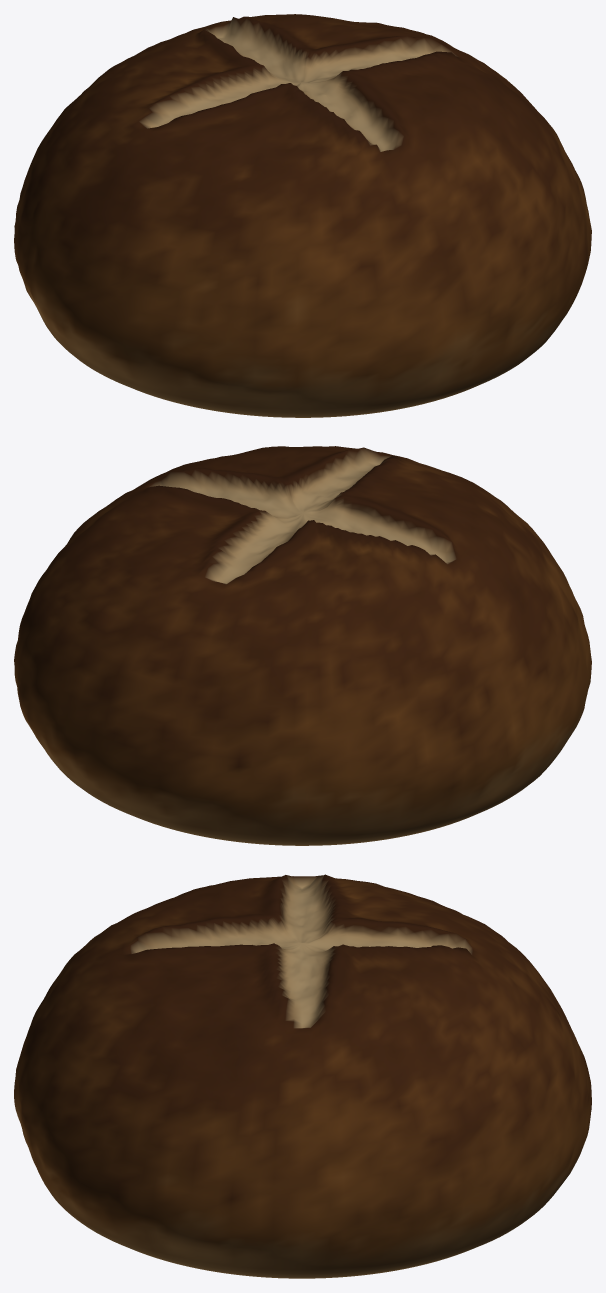
Rendered from biker-500g.glb.
3 renders of one model, top to bottom at view 1: azimuth 30°, elevation 25°; view 2: azimuth 150°, elevation 25°; view 3: azimuth 270°, elevation 25°, orthographic.
Parts seen in each view (by area): view 1: biker-500g; view 2: biker-500g; view 3: biker-500g.
Boxes of the visible parts, x1=… form: biker-500g: x1=14, y1=14, x2=591, y2=417; biker-500g: x1=14, y1=446, x2=591, y2=845; biker-500g: x1=14, y1=874, x2=591, y2=1278.
Bounding box in the file's own units: 0.18 × 0.085 × 0.18.
